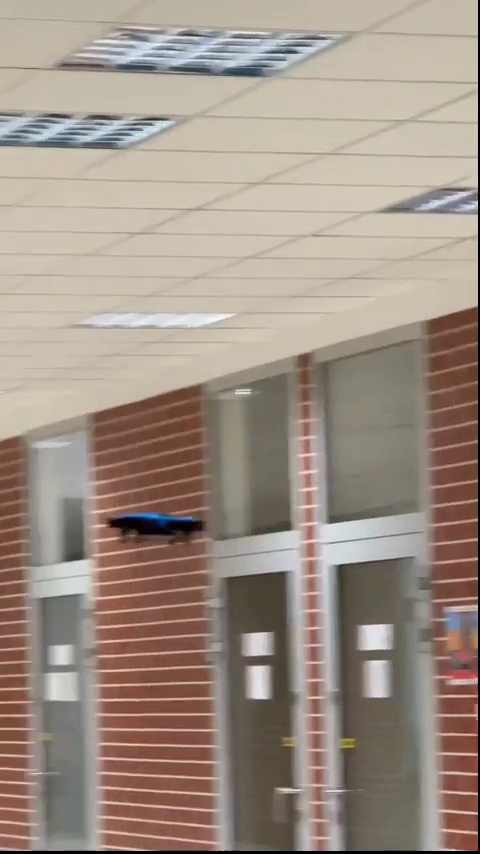drone: (109, 507, 211, 547)
